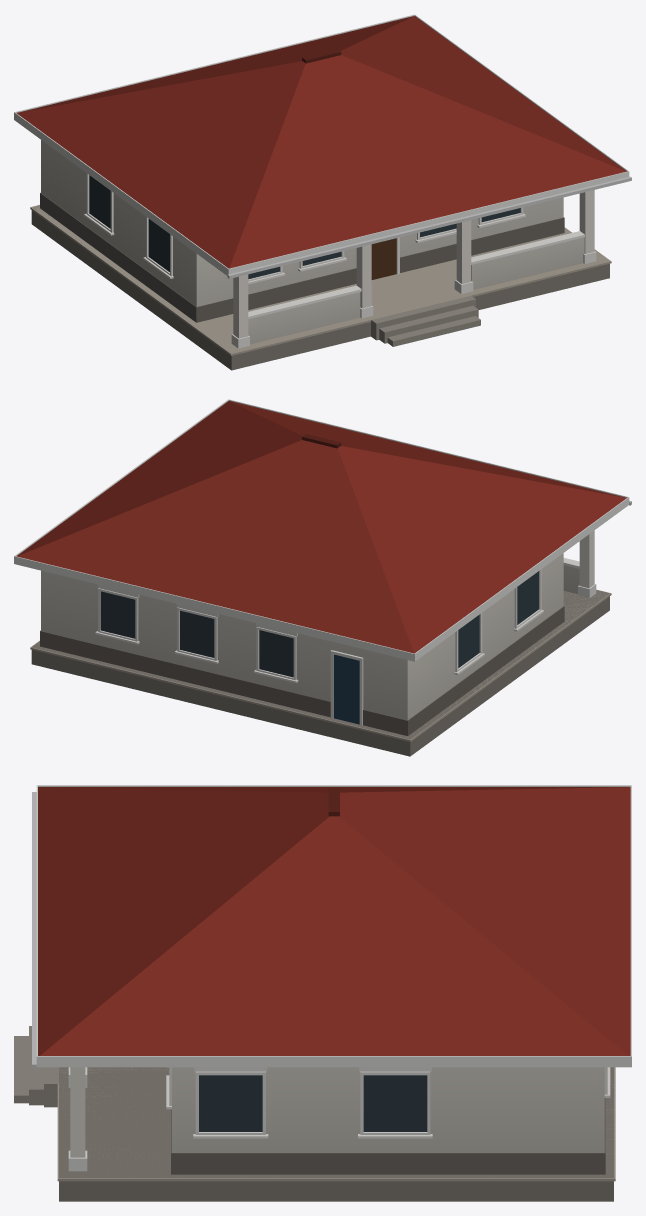
Rendered from ns_bungalow_lod1.glb.
3 views of the same model, one above another, from view 1: azimuth 30°, elevation 25°; view 2: azimuth 150°, elevation 25°; view 3: azimuth 270°, elevation 25° (orthographic). The views are drawn at different scales.
Parts seen in each view (by area): view 1: ns_bungalow_lod1; view 2: ns_bungalow_lod1; view 3: ns_bungalow_lod1.
Part boxes in pixels (x1,y1,x2,y2): ns_bungalow_lod1: [14, 14, 631, 370]; ns_bungalow_lod1: [14, 399, 631, 756]; ns_bungalow_lod1: [14, 785, 631, 1201].
Size of the model in its own units: 13.72 by 6.41 by 13.14.
